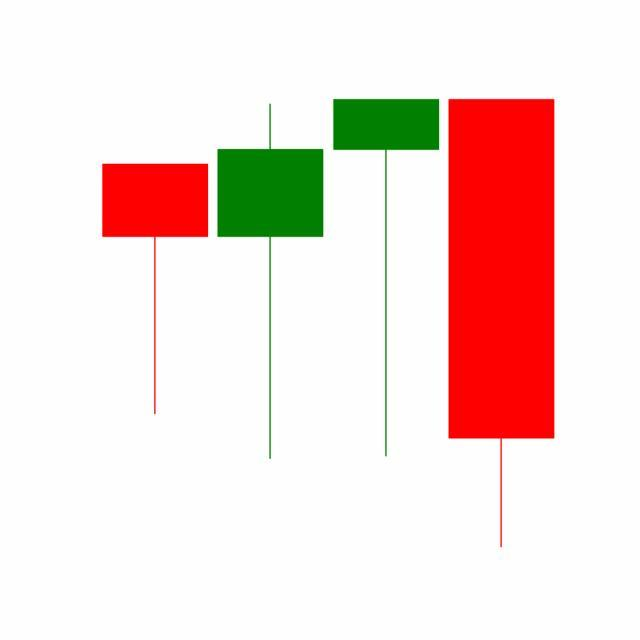Dragonfly Doji: (329, 95, 445, 461)
